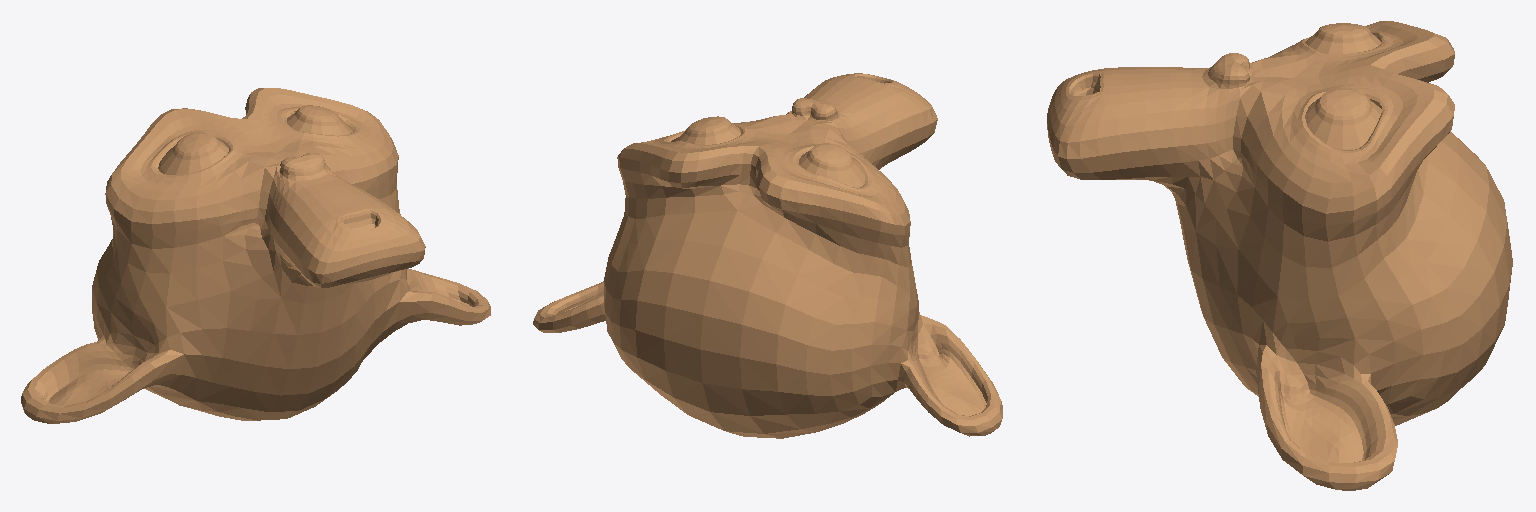
The robot description file, URDF, robot "suzanne":
<?xml version="1.0"?>
<robot name="suzanne">
  <!--
    Dynamic Suzanne for PyBullet (same conventions as bunny.urdf).

    GEOMETRY:
    Mesh is uniformly scaled by 1/2.65187 = 0.3770924 so the largest extent (ear to ear, x) is 1 m.
    Scaled extents: 1.000 x 0.720 x 0.604 m. Mesh axes kept as exported from Blender (y up, face toward +z).
    The link frame sits at the true volumetric center of mass; visual/collision <origin> = -scale*COM.

      Mesh-local COM: (0.0000, 0.2207, 0.0455)
      Bbox center:    (0.0000, -0.0156, 0.0220)

    SOLID MODEL:
    The Blender mesh is not closed: the head has two eye-socket holes and the eyes are
    open-backed domes. For the mass properties, all four boundary loops were capped and the
    head and eyes were boolean-unioned (manifold3d) into one watertight solid, so the eye
    region is counted once. Raw-unit volume 1.982607.

    MASS: 1 kg, uniform density.

    INERTIA: about the COM, in the link frame. Signed-tetrahedron integration (Mirtich 1996)
    on the watertight solid, rescaled to m = 1 kg and mesh scale s (inertia ~ s^2 at fixed mass).
    Cross-checked against a winding-number grid integration of the ORIGINAL open mesh
    (no capping, no boolean): volume and all tensor entries agree to < 0.01 %.
    ixy = ixz = 0 by the mesh's left/right mirror symmetry. iyz != 0: the principal axes
    are rotated 36.2 deg about x relative to the mesh axes.

    Principal moments: (0.0358, 0.0381, 0.0465) kg*m^2

    COLLISION: suzanne_collision.obj - CoACD convex decomposition (threshold 0.03), 50 hulls,
    one "o" block per hull. Hulls exceed the solid volume by 2.4 %.

    Load with flags=p.URDF_USE_INERTIA_FROM_FILE, otherwise PyBullet ignores the tensor above.
  -->
  <link name="suzanne">
    <inertial>
      <origin xyz="0 0 0" rpy="0 0 0"/>
      <mass value="1.0"/>
      <inertia ixx="0.03814392" ixy="0.00000000" ixz="0.00000000"
               iyy="0.04277184" iyz="0.00512584"
               izz="0.03952438"/>
    </inertial>

    <visual>
      <origin xyz="0.000000 -0.083223 -0.017163" rpy="0 0 0"/>
      <geometry>
        <mesh filename="suzanne.obj" scale="0.3770924 0.3770924 0.3770924"/>
      </geometry>
      <material name="suzanne_color">
        <color rgba="0.80 0.62 0.45 1.0"/>
      </material>
    </visual>

    <collision>
      <origin xyz="0.000000 -0.083223 -0.017163" rpy="0 0 0"/>
      <geometry>
        <mesh filename="suzanne_collision.obj" scale="0.3770924 0.3770924 0.3770924"/>
      </geometry>
    </collision>
  </link>
</robot>

--- What the picture shows (computed from the rendered views, not written in the file) ---
3 views of the same robot in one strip: view 1: azimuth 30°, elevation 25°; view 2: azimuth 150°, elevation 25°; view 3: azimuth 270°, elevation 25° (orthographic).
Robot: suzanne — 1 links, 0 joints (none); root link suzanne; default pose: every joint at zero.
Visible links, largest first — view 1: suzanne; view 2: suzanne; view 3: suzanne.
Link boxes in pixels (box(x1,y1,x2,y2)): suzanne: box(21, 88, 490, 423); suzanne: box(533, 73, 1002, 438); suzanne: box(1047, 21, 1512, 490).
Bounding box of the posed robot: 1 × 0.7201 × 0.6036 m (x, y, z).
1 mesh visuals loaded from 1 distinct referenced files (1 OBJ).
